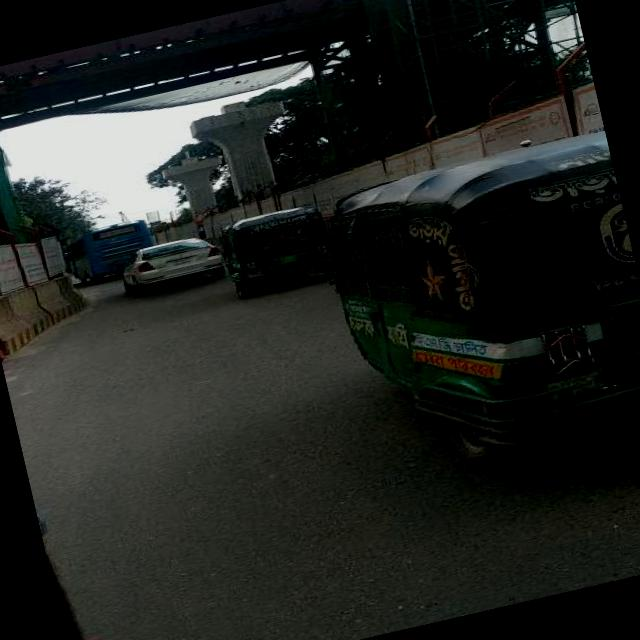bus: (59, 223, 121, 284)
car: (114, 230, 224, 298)
motorcycle: (314, 123, 640, 500), (212, 198, 339, 302)
